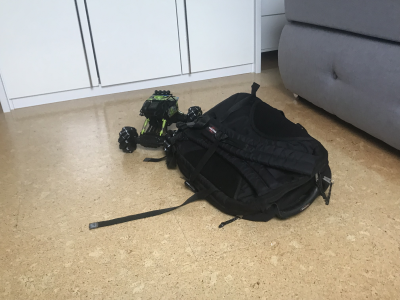remote control car: (117, 86, 202, 156)
